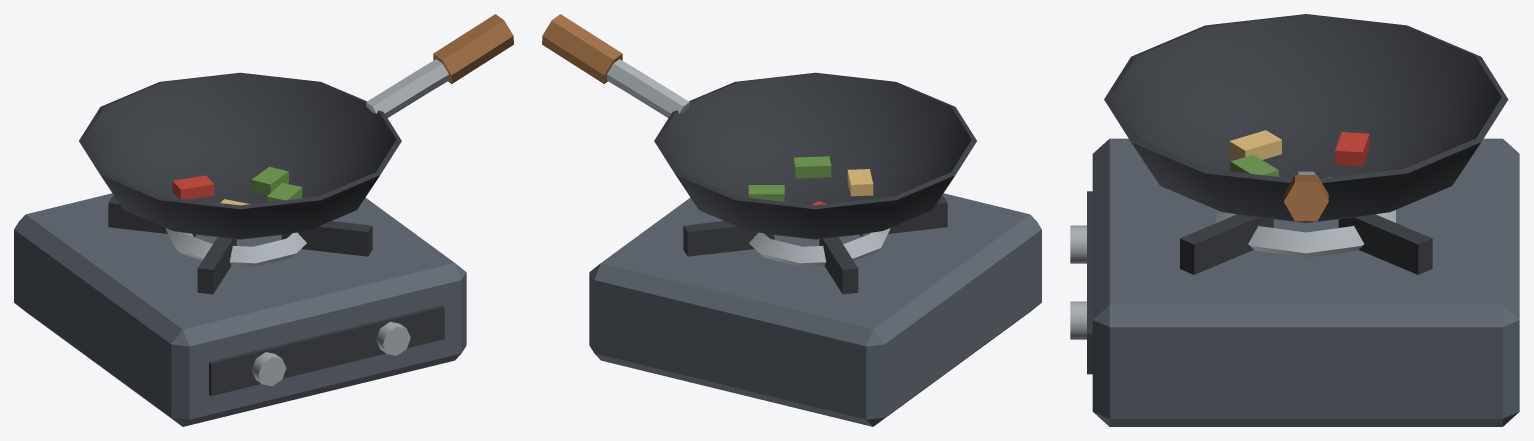
The model's file is wok_on_burner.glb.
The picture shows the model from 3 angles, left to right: view 1: azimuth 30°, elevation 25°; view 2: azimuth 150°, elevation 25°; view 3: azimuth 270°, elevation 25°; orthographic projection. The views are drawn at different scales.
Parts seen in each view (by area): view 1: wok_on_burner; view 2: wok_on_burner; view 3: wok_on_burner.
Boxes of the visible parts, box(x1,y1,x2,y2) form: wok_on_burner: box(14, 14, 513, 426); wok_on_burner: box(542, 14, 1041, 426); wok_on_burner: box(1070, 14, 1519, 426).
Bounding box in the file's own units: 0.5361 × 0.3142 × 0.4.
